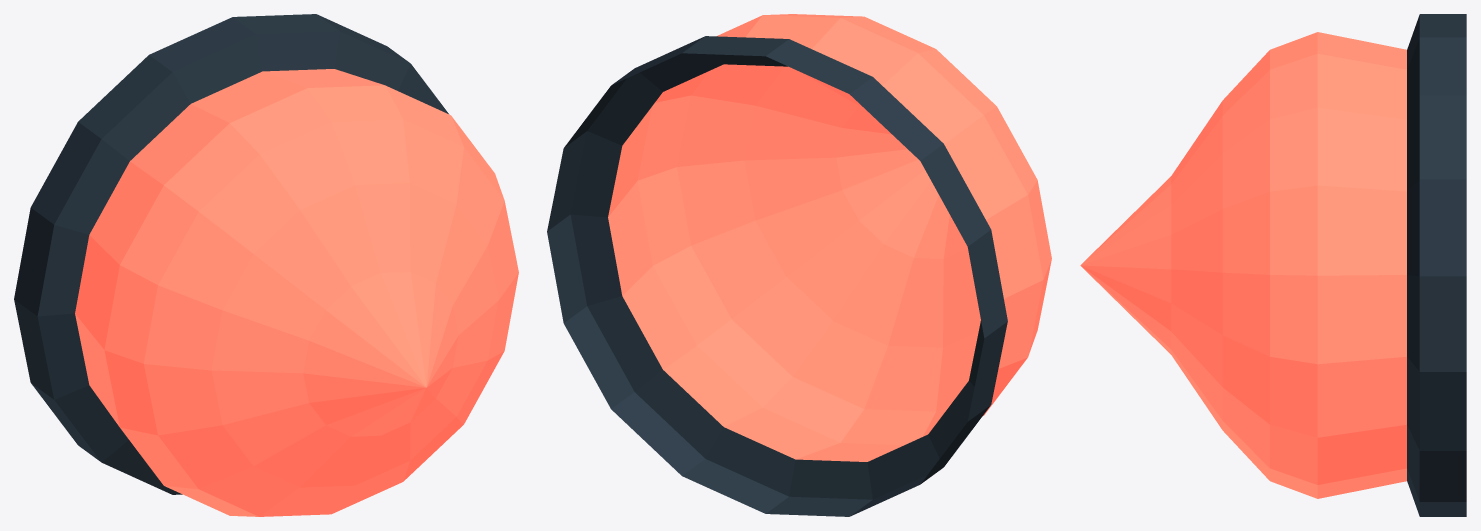
Rendered from FloorLight.fbx.
The picture shows the model from 3 angles, left to right: view 1: azimuth 30°, elevation 25°; view 2: azimuth 150°, elevation 25°; view 3: azimuth 270°, elevation 25°; orthographic projection.
Parts seen in each view (by area): view 1: Sphere.014; view 2: Sphere.014; view 3: Sphere.014.
Part boxes in pixels (box(x1,y1,x2,y2)): Sphere.014: box(14, 14, 518, 516); Sphere.014: box(547, 14, 1051, 516); Sphere.014: box(1080, 14, 1466, 516).
Size of the model in its own units: 44.53 by 44.53 by 34.2.
